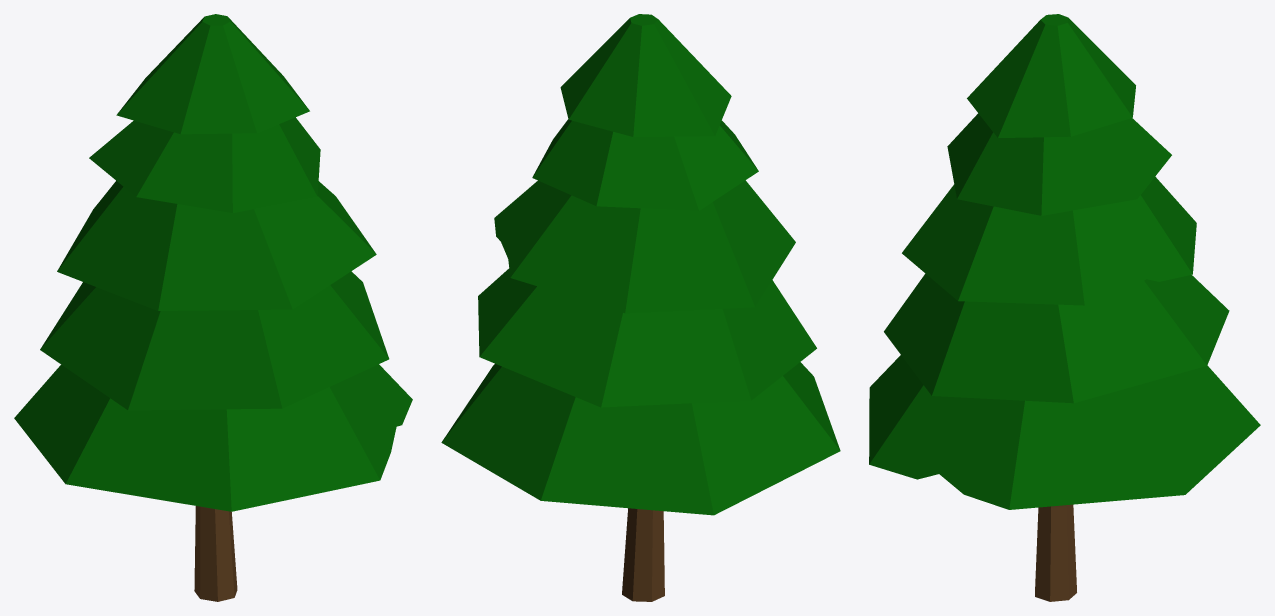
File: Park1_T7.glb
3 renders of one model, left to right at view 1: azimuth 30°, elevation 25°; view 2: azimuth 150°, elevation 25°; view 3: azimuth 270°, elevation 25°, orthographic.
Parts seen in each view (by area): view 1: Park1-T7; view 2: Park1-T7; view 3: Park1-T7.
Boxes of the visible parts, x1,y1,x2,y2 form: Park1-T7: (14, 14, 412, 601); Park1-T7: (441, 14, 840, 601); Park1-T7: (869, 14, 1260, 601).
Bounding box in the file's own units: 38.31 × 60.34 × 37.39.
